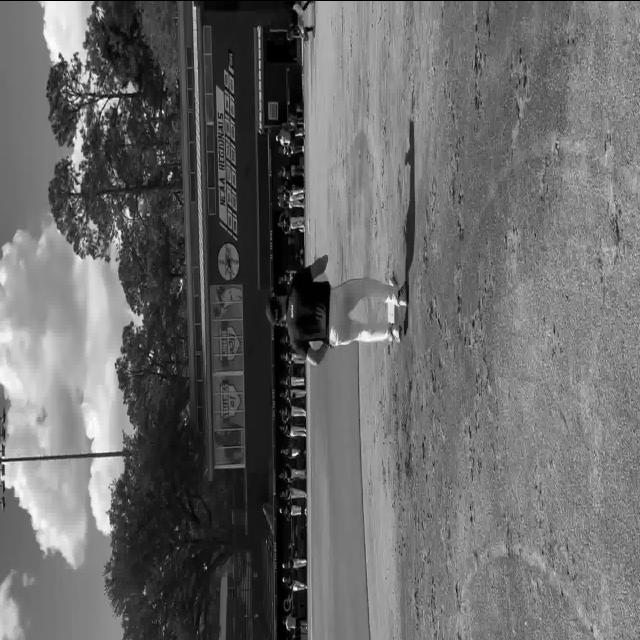base: (388, 302, 395, 322), (389, 278, 395, 284)
shoe: (398, 282, 409, 304), (391, 322, 402, 342)
